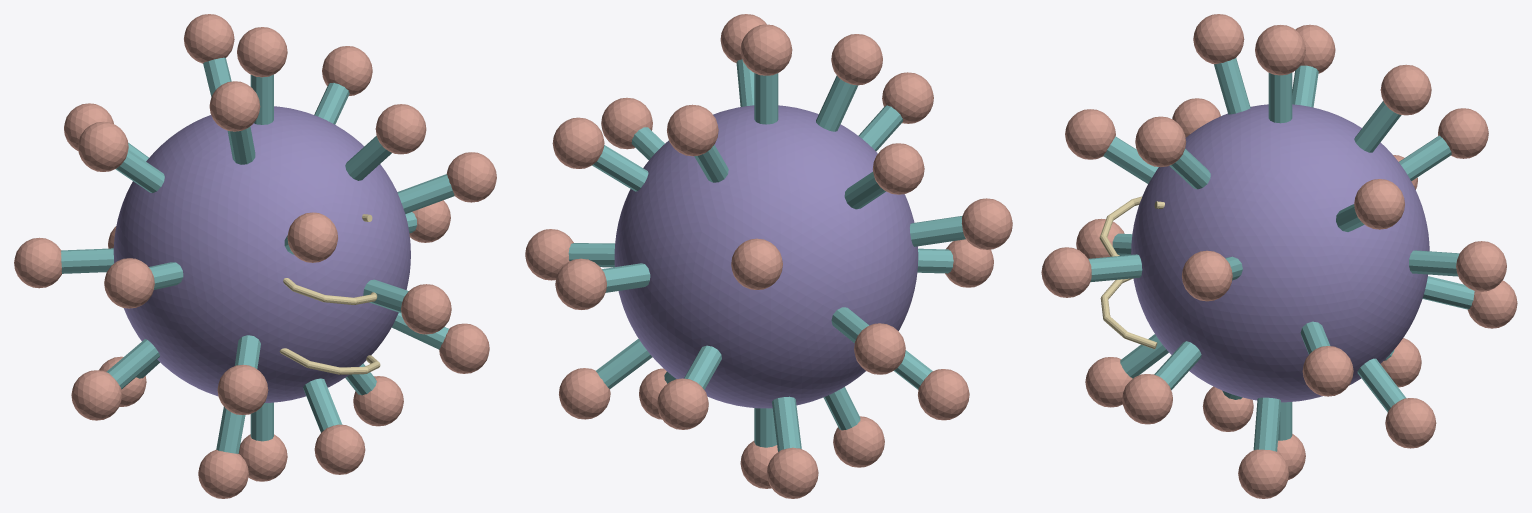
File: virus.glb
The picture shows the model from 3 angles, left to right: view 1: azimuth 30°, elevation 25°; view 2: azimuth 150°, elevation 25°; view 3: azimuth 270°, elevation 25°; orthographic projection. The views are drawn at different scales.
Parts seen in each view (by area): view 1: part_000, part_005, part_020, part_029, part_035, part_011, part_002, part_059, part_014, part_044, part_053, part_026 (+26 smaller); view 2: part_000, part_014, part_047, part_038, part_002, part_032, part_023, part_008, part_005, part_017, part_062, part_029 (+29 smaller); view 3: part_000, part_017, part_026, part_032, part_041, part_002, part_035, part_011, part_008, part_050, part_056, part_065 (+27 smaller).
Boxes of the visible parts, bbox=[...] form: part_000: bbox=[113, 106, 410, 402]; part_005: bbox=[209, 81, 260, 131]; part_020: bbox=[287, 212, 337, 262]; part_029: bbox=[104, 258, 154, 308]; part_035: bbox=[401, 284, 451, 334]; part_011: bbox=[375, 104, 426, 154]; part_002: bbox=[237, 27, 287, 77]; part_059: bbox=[314, 424, 365, 474]; part_014: bbox=[78, 121, 128, 171]; part_044: bbox=[217, 364, 268, 415]; part_053: bbox=[71, 370, 122, 420]; part_026: bbox=[446, 152, 496, 202]; part_000: bbox=[614, 105, 918, 408]; part_014: bbox=[872, 143, 924, 194]; part_047: bbox=[657, 378, 708, 429]; part_038: bbox=[854, 323, 905, 374]; part_002: bbox=[740, 24, 792, 75]; part_032: bbox=[555, 258, 606, 309]; part_023: bbox=[731, 238, 782, 289]; part_008: bbox=[667, 104, 718, 156]; part_005: bbox=[831, 34, 882, 85]; part_017: bbox=[552, 117, 604, 168]; part_062: bbox=[766, 447, 818, 498]; part_029: bbox=[961, 198, 1012, 249]; part_000: bbox=[1131, 104, 1429, 402]; part_017: bbox=[1354, 179, 1404, 229]; part_026: bbox=[1182, 250, 1232, 301]; part_032: bbox=[1456, 241, 1506, 291]; part_041: bbox=[1302, 346, 1353, 396]; part_002: bbox=[1255, 25, 1305, 75]; part_035: bbox=[1041, 247, 1091, 297]; part_011: bbox=[1135, 116, 1186, 167]; part_008: bbox=[1380, 64, 1431, 115]; part_050: bbox=[1122, 374, 1172, 424]; part_056: bbox=[1385, 398, 1436, 448]; part_065: bbox=[1238, 449, 1288, 498].
Bounding box in the file's own units: 1.51 × 1.6 × 1.53.
